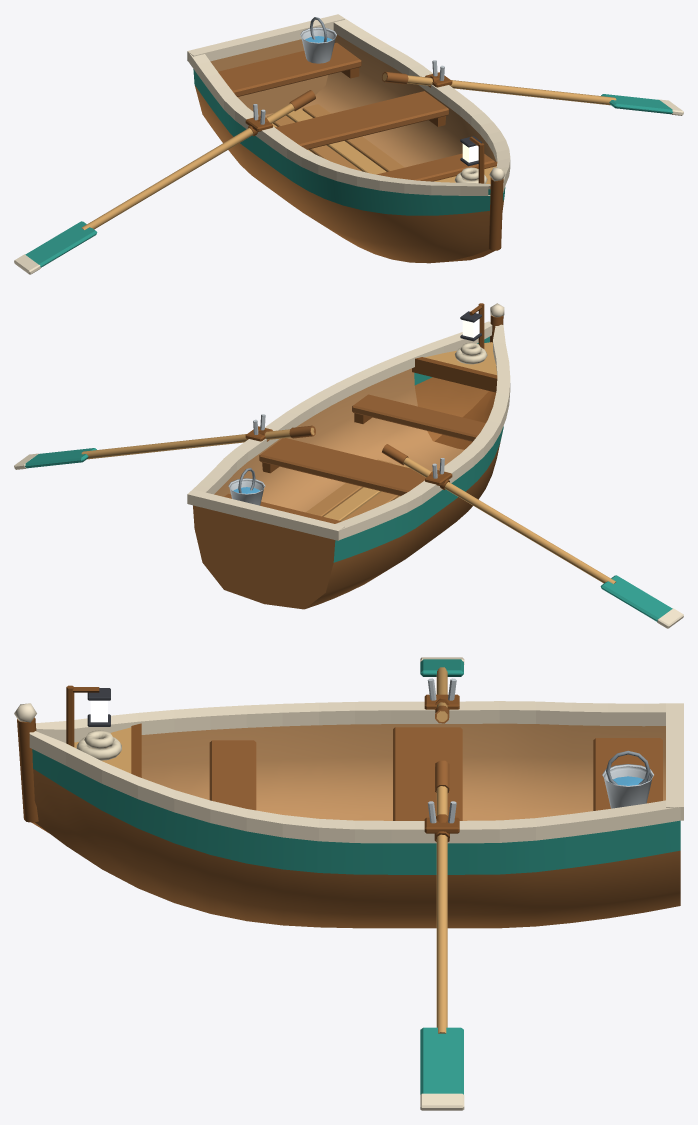
The model's file is boat.glb.
3 views of the same model, one above another, from view 1: azimuth 30°, elevation 25°; view 2: azimuth 150°, elevation 25°; view 3: azimuth 270°, elevation 25° (orthographic). The views are drawn at different scales.
Parts seen in each view (by area): view 1: Boat_Hull, Boat_Oar_L, Boat_Oar_R; view 2: Boat_Hull, Boat_Oar_L, Boat_Oar_R; view 3: Boat_Hull, Boat_Oar_R, Boat_Oar_L.
Boxes of the visible parts, x1,y1,x2,y2 form: Boat_Hull: (187, 14, 510, 263); Boat_Oar_L: (14, 90, 315, 274); Boat_Oar_R: (382, 71, 683, 115); Boat_Hull: (187, 303, 510, 609); Boat_Oar_L: (382, 444, 683, 628); Boat_Oar_R: (14, 425, 315, 469); Boat_Hull: (14, 678, 683, 928); Boat_Oar_R: (420, 760, 464, 1110); Boat_Oar_L: (420, 657, 464, 723).
Bounding box in the file's own units: 3.66 × 0.81 × 2.31.
